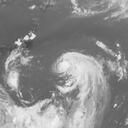cyclone: (52, 51, 99, 93)
